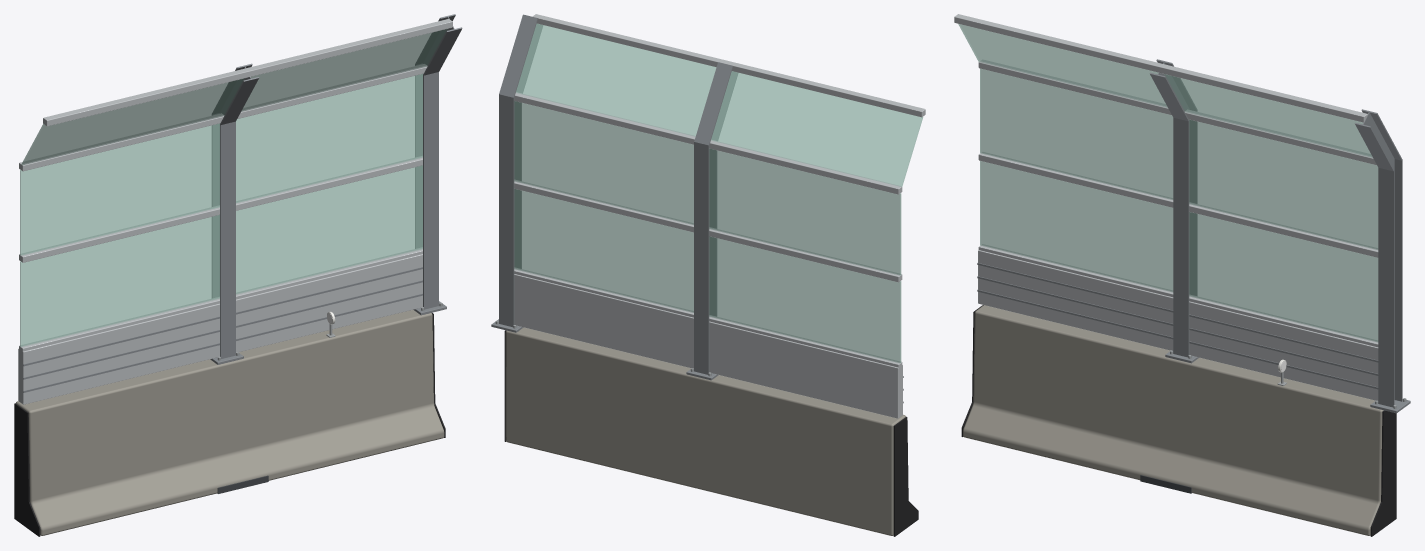
Rendered from shuto_parapet_4m.fbx.
The picture shows the model from 3 angles, left to right: view 1: azimuth 30°, elevation 25°; view 2: azimuth 150°, elevation 25°; view 3: azimuth 330°, elevation 25°; orthographic projection. The views are drawn at different scales.
Parts seen in each view (by area): view 1: shuto_parapet_4m; view 2: shuto_parapet_4m; view 3: shuto_parapet_4m.
Boxes of the visible parts, left/top/right/bottom form: shuto_parapet_4m: left=14, top=14, right=462, bottom=536; shuto_parapet_4m: left=491, top=14, right=925, bottom=536; shuto_parapet_4m: left=954, top=14, right=1410, bottom=536.
Size of the model in its own units: 4.13 by 3.98 by 0.5944.
